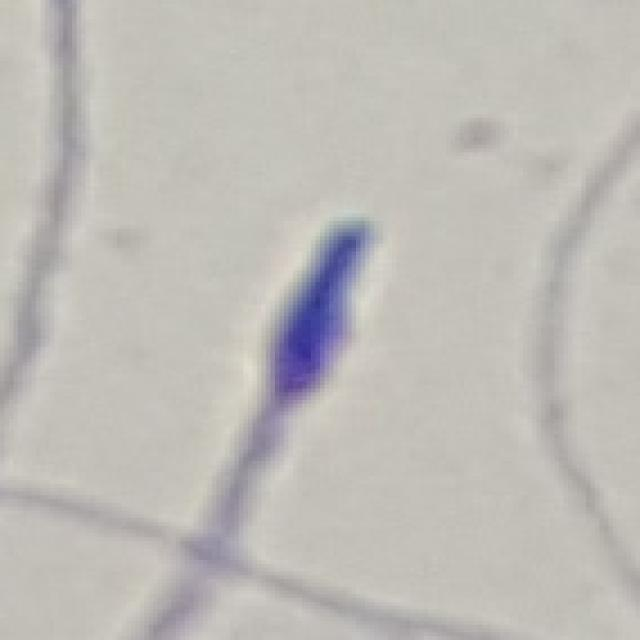abnormal sperm: (226, 216, 386, 497)
